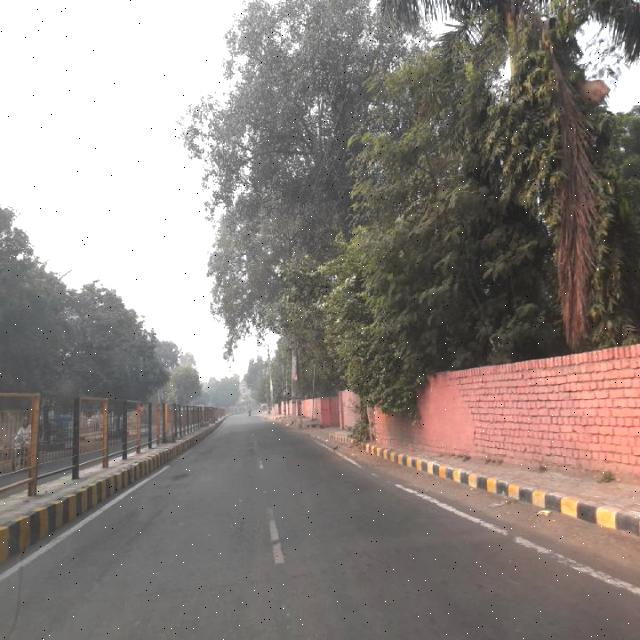D44: (500, 527, 640, 599), (334, 454, 415, 494), (259, 497, 297, 572)
